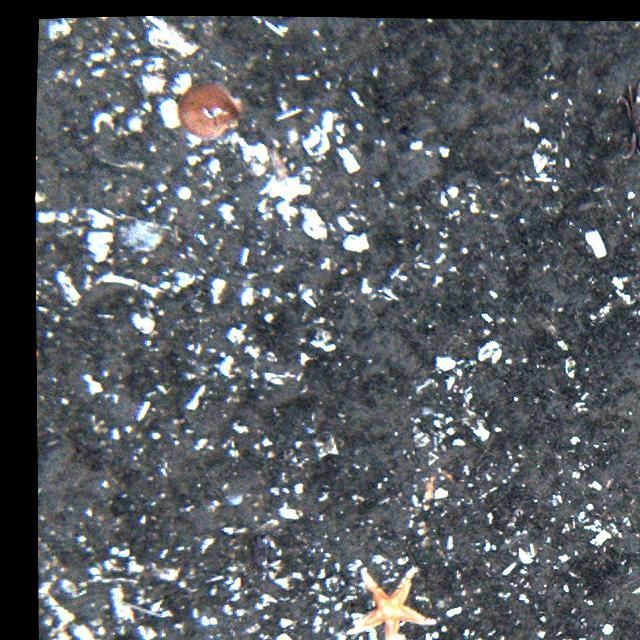scallop: (178, 74, 245, 145)
